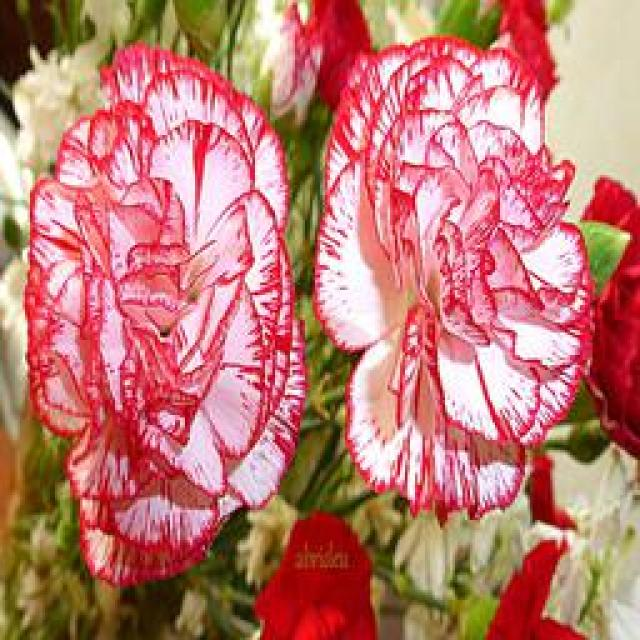carnation: (17, 54, 306, 582)
